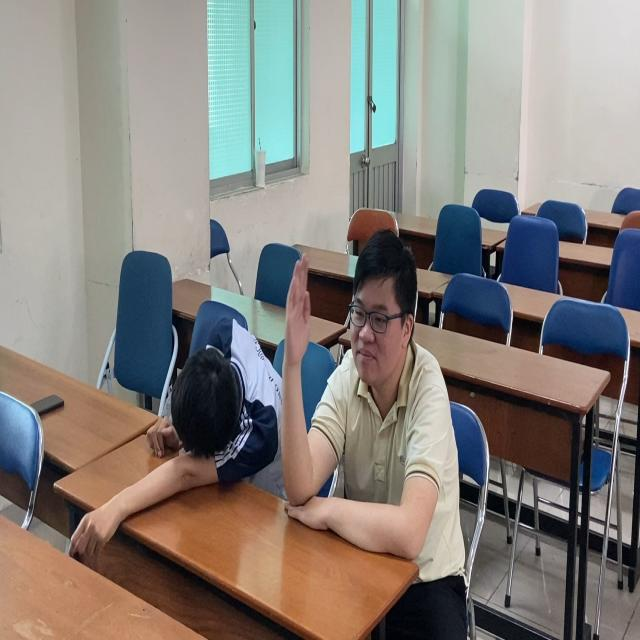raise_hand: (277, 228, 447, 568)
sleep: (65, 305, 277, 563)
